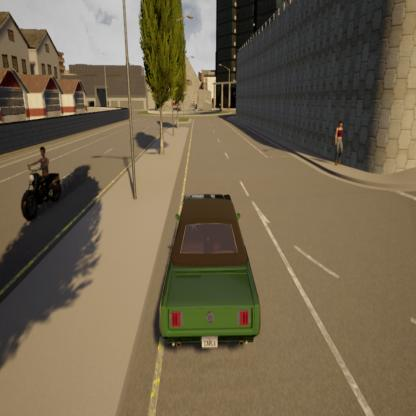Cars: (154, 187, 264, 354)
Pedestrian: (333, 118, 349, 171)
